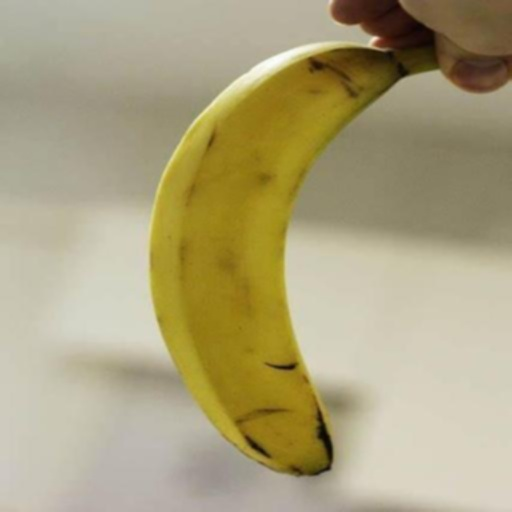fruit: (74, 129, 227, 435)
